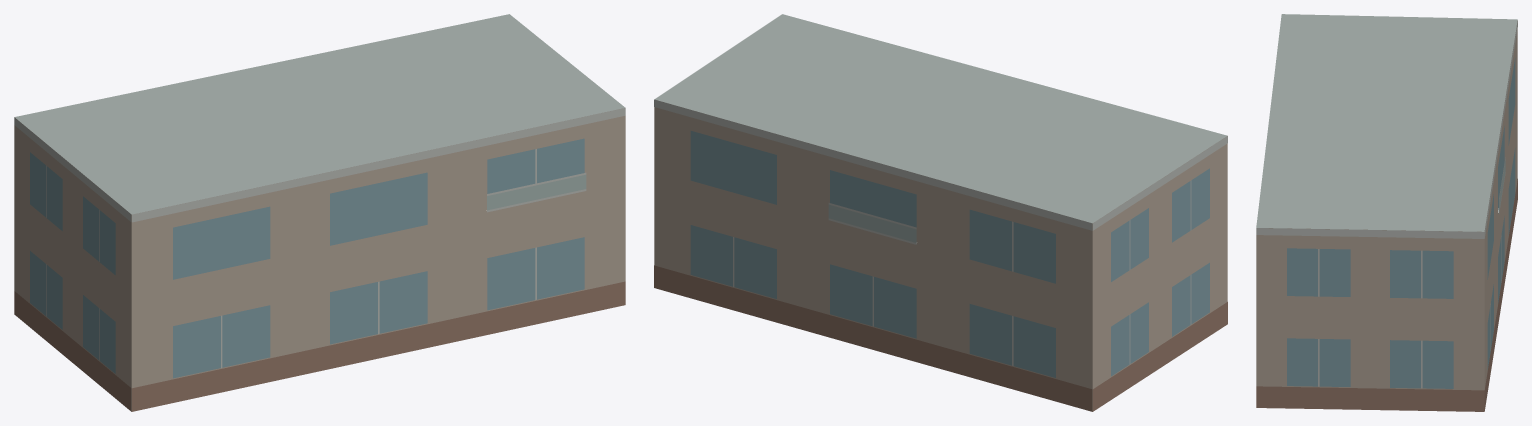
File: survey-upis-32893517.glb
The picture shows the model from 3 angles, left to right: view 1: azimuth 30°, elevation 25°; view 2: azimuth 150°, elevation 25°; view 3: azimuth 270°, elevation 25°; orthographic projection. The views are drawn at different scales.
Visible parts, largest first — view 1: survey-upis-32893517.tmp; view 2: survey-upis-32893517.tmp; view 3: survey-upis-32893517.tmp.
Boxes of the visible parts, x1,y1,x2,y2 form: survey-upis-32893517.tmp: (14, 14, 625, 411); survey-upis-32893517.tmp: (654, 14, 1227, 411); survey-upis-32893517.tmp: (1256, 14, 1517, 411).
Bounding box in the file's own units: 15.84 × 6.1 × 8.04.
